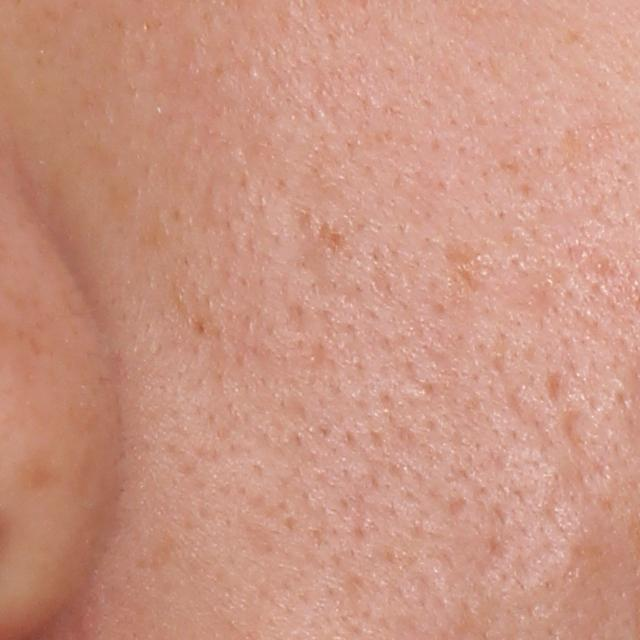atrophic_scar: (554, 243, 627, 290), (562, 412, 597, 463), (545, 368, 569, 403)
